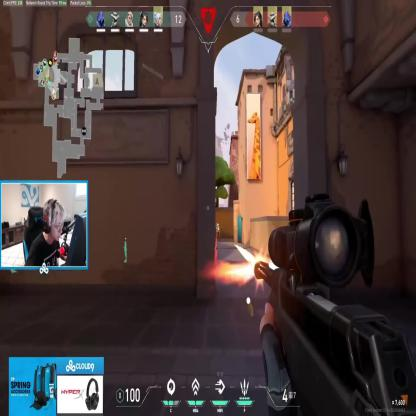enemy: (212, 221, 219, 249)
enemy_head: (216, 223, 219, 227)
